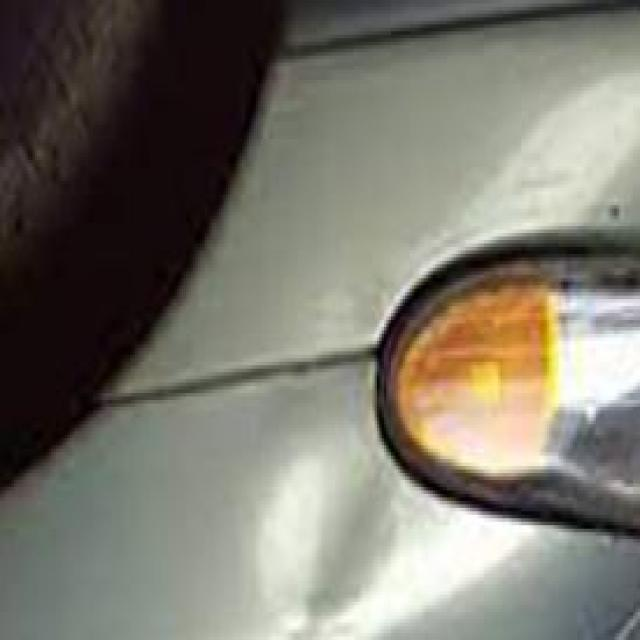dent: (202, 428, 414, 640)
